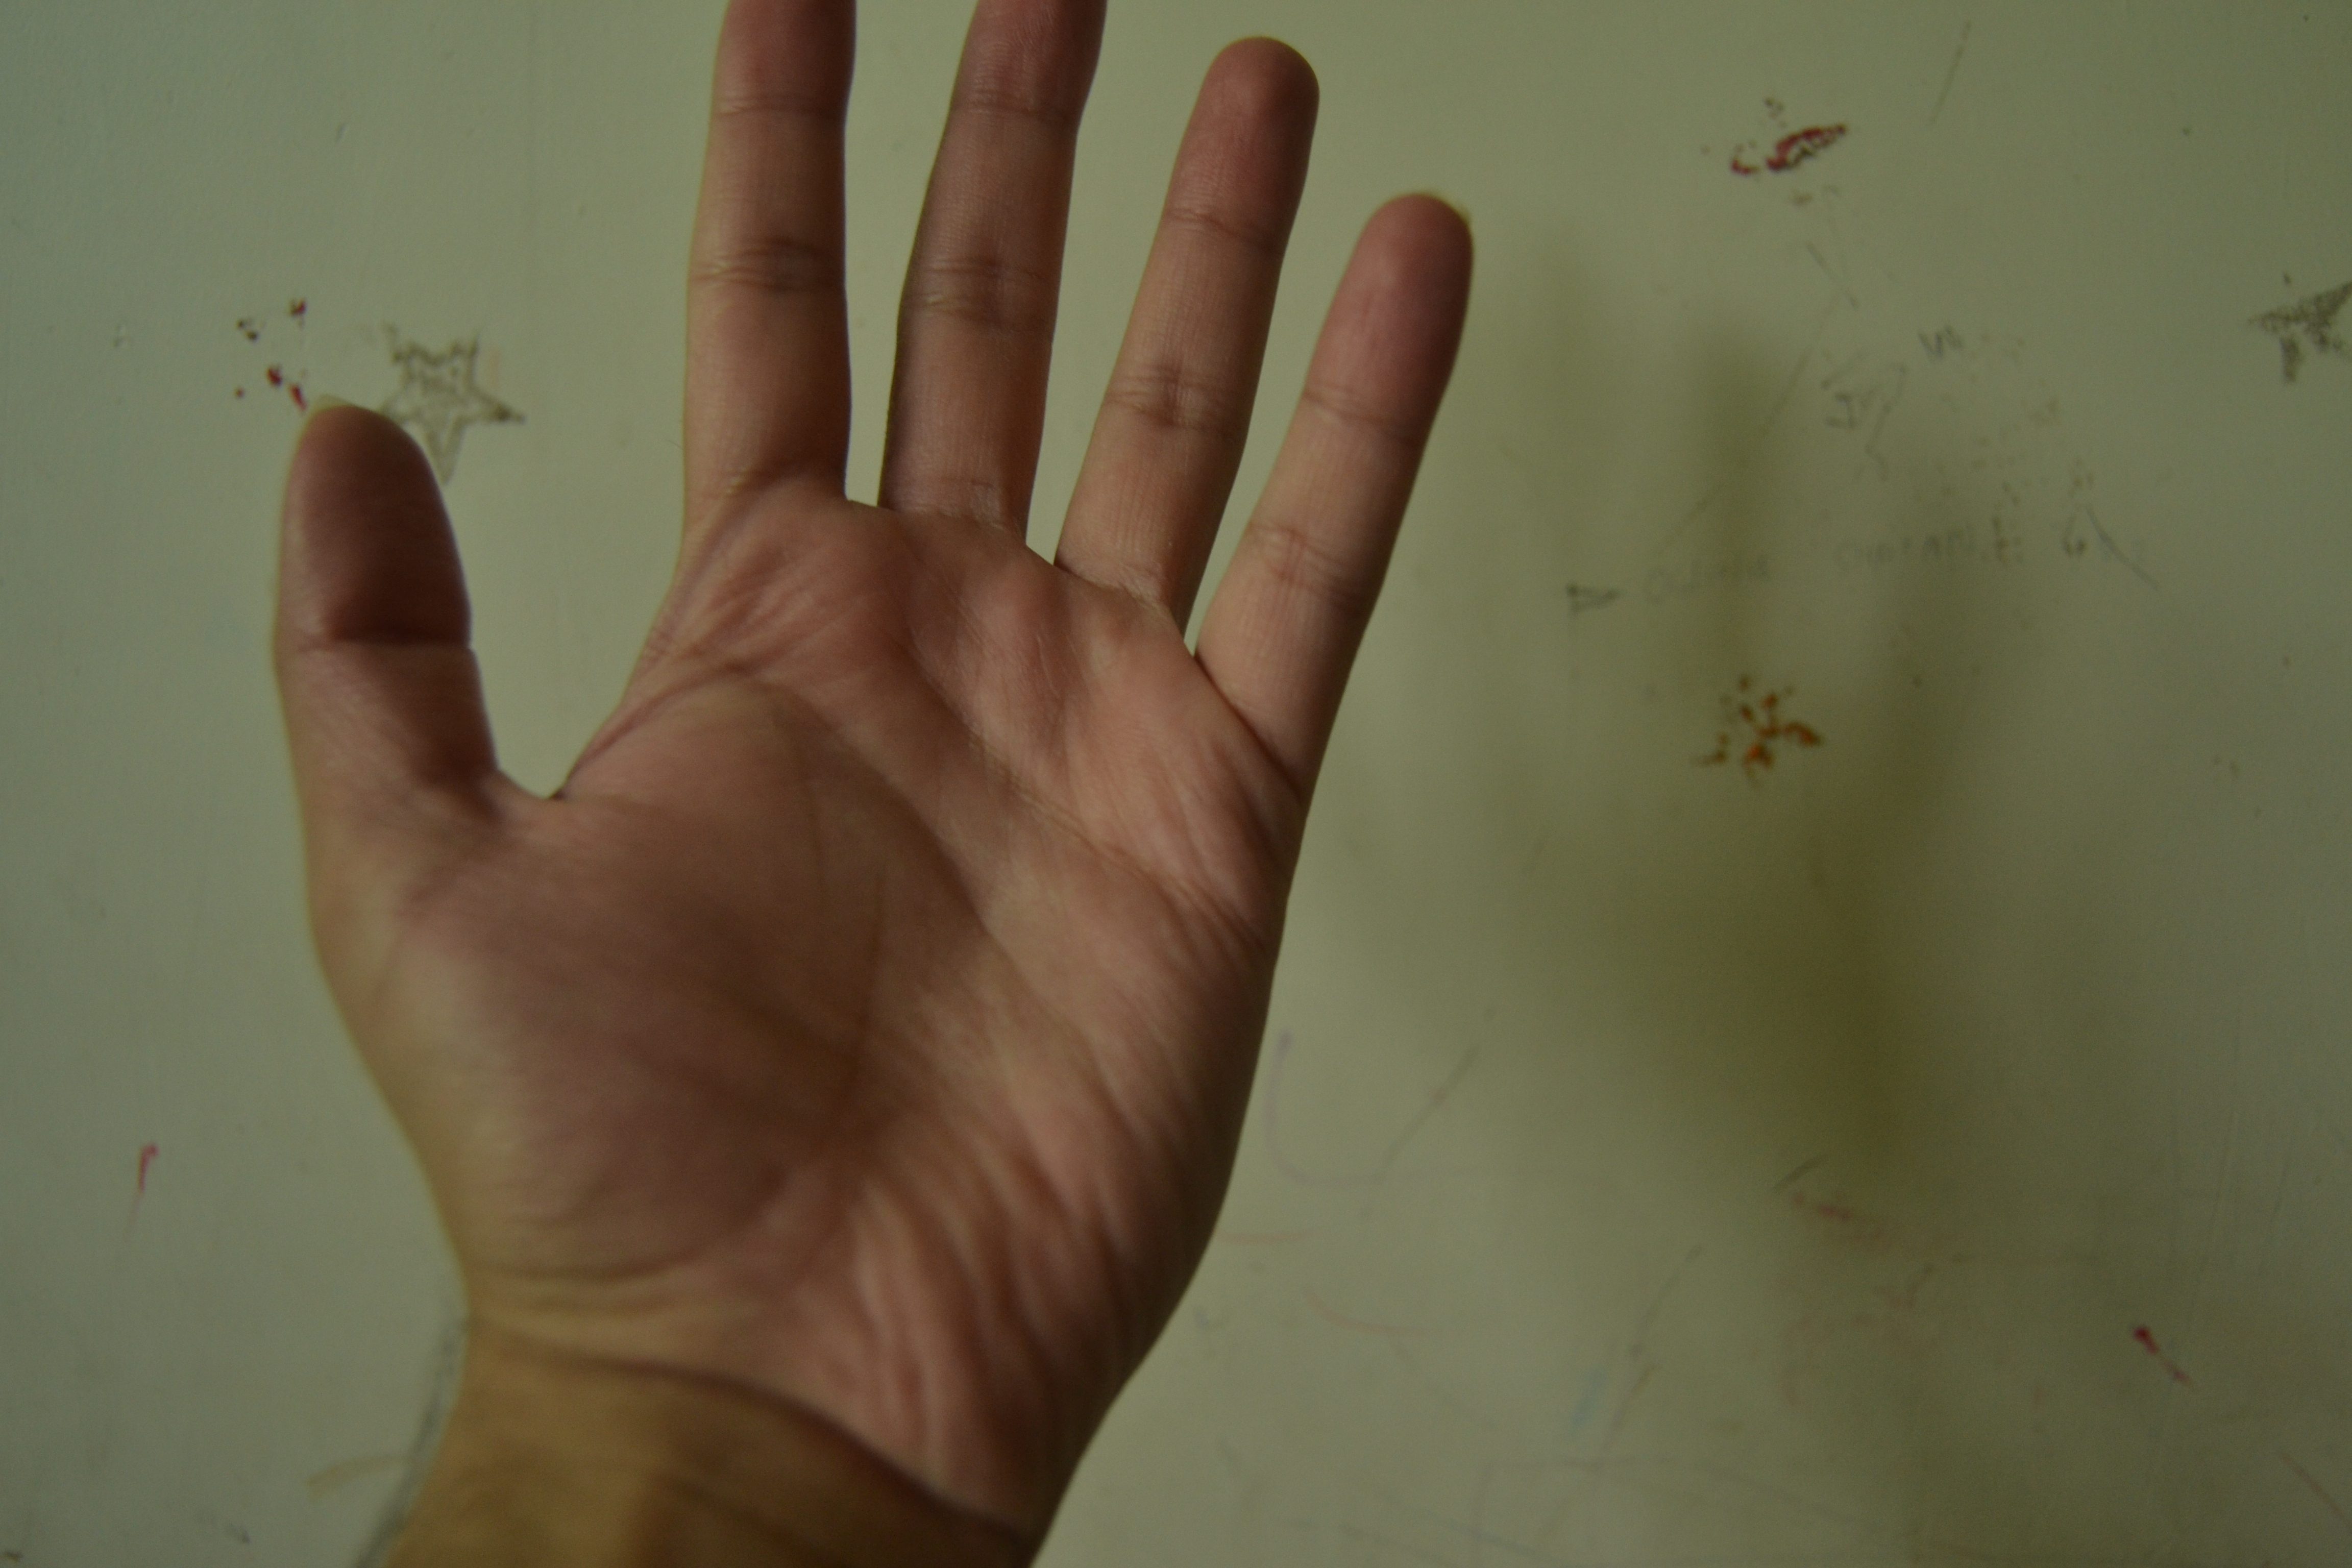move: (226, 21, 1536, 1514)
